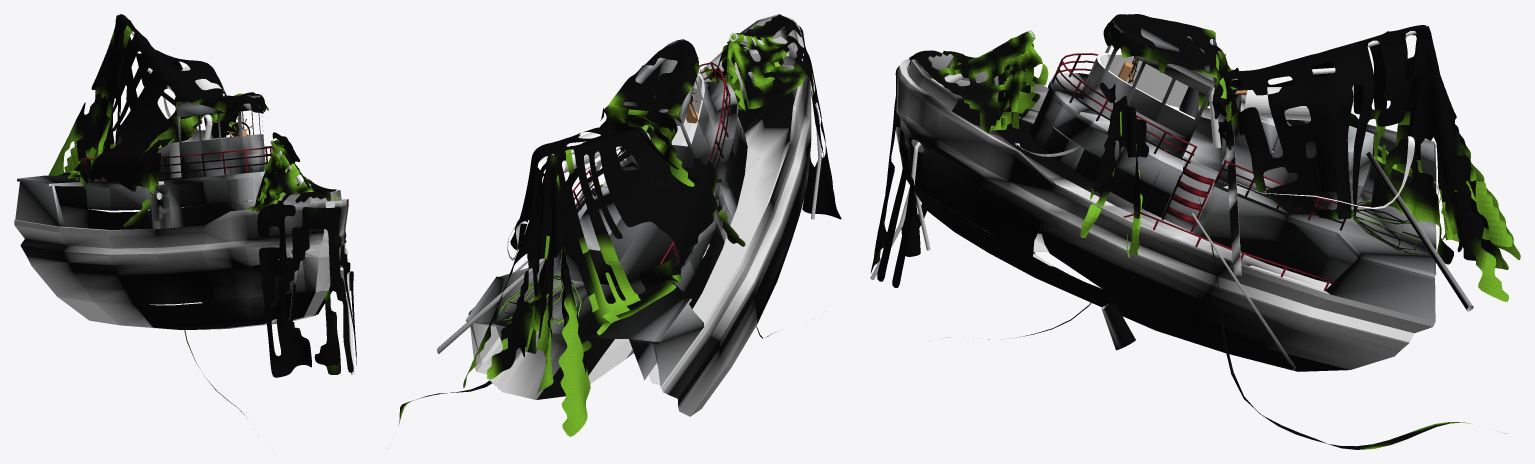
Rendered from herkules.dae.
The picture shows the model from 3 angles, left to right: view 1: azimuth 30°, elevation 25°; view 2: azimuth 150°, elevation 25°; view 3: azimuth 270°, elevation 25°; orthographic projection. The views are drawn at different scales.
Parts seen in each view (by area): view 1: Rumpf, Schiffsdeck, Muschelbewuchs_001, Muschelbewuchs_002, Muschelbewuchs, Muschelbewuchs_003, Reling_002, Tuer, Rumpf_001; view 2: Muschelbewuchs_001, Rumpf, Schiffsdeck, Muschelbewuchs, Muschelbewuchs_003, Muschelbewuchs_002, Reling_002, Cockpit, Rumpf_001, Schutt2, Seil, Schornstein; view 3: Rumpf, Schiffsdeck, Muschelbewuchs_001, Muschelbewuchs, Muschelbewuchs_003, Muschelbewuchs_002, Reling_002, Cockpit, TauB, Schutt2, Schutt, Rumpf_001 (+5 smaller).
Boxes of the visible parts, <box> form: Rumpf: <box>14,199,348,329</box>; Schiffsdeck: <box>15,95,265,229</box>; Muschelbewuchs_001: <box>48,14,235,193</box>; Muschelbewuchs_002: <box>257,204,356,377</box>; Muschelbewuchs: <box>123,92,299,227</box>; Muschelbewuchs_003: <box>246,139,337,211</box>; Reling_002: <box>83,146,273,182</box>; Tuer: <box>150,184,170,228</box>; Rumpf_001: <box>280,190,341,205</box>; Muschelbewuchs_001: <box>463,108,717,436</box>; Rumpf: <box>475,16,812,416</box>; Schiffsdeck: <box>465,39,747,387</box>; Muschelbewuchs: <box>600,40,745,246</box>; Muschelbewuchs_003: <box>704,14,806,118</box>; Muschelbewuchs_002: <box>799,26,841,219</box>; Reling_002: <box>572,62,731,264</box>; Cockpit: <box>649,73,704,146</box>; Rumpf_001: <box>727,14,797,65</box>; Schutt2: <box>437,258,546,353</box>; Seil: <box>498,274,581,324</box>; Schornstein: <box>537,132,600,173</box>; Rumpf: <box>895,58,1435,371</box>; Schiffsdeck: <box>1030,14,1436,321</box>; Muschelbewuchs_001: <box>1198,25,1520,301</box>; Muschelbewuchs: <box>1080,14,1236,257</box>; Muschelbewuchs_003: <box>907,31,1048,133</box>; Muschelbewuchs_002: <box>870,65,926,287</box>; Reling_002: <box>1051,53,1346,230</box>; Cockpit: <box>1096,53,1194,119</box>; TauB: <box>929,196,1507,449</box>; Schutt2: <box>1366,152,1473,311</box>; Schutt: <box>1225,133,1241,276</box>; Rumpf_001: <box>908,52,957,110</box>.
Bounding box in the file's own units: 12.41 × 22.62 × 13.62.
